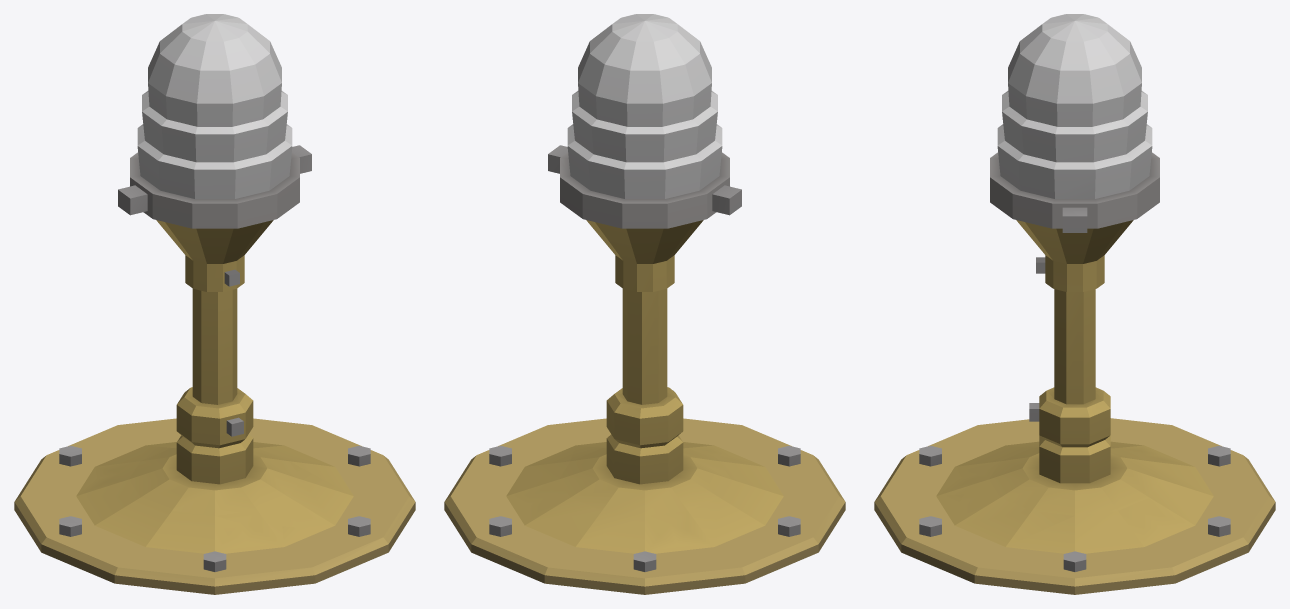
The model's file is edge.glb.
3 views of the same model, side by side, from view 1: azimuth 30°, elevation 25°; view 2: azimuth 150°, elevation 25°; view 3: azimuth 270°, elevation 25° (orthographic).
Visible parts, largest first — view 1: edge; view 2: edge; view 3: edge.
Part boxes in pixels (x1=…): edge: x1=14, y1=14, x2=415, y2=594; edge: x1=444, y1=14, x2=845, y2=594; edge: x1=874, y1=14, x2=1275, y2=594.
Bounding box in the file's own units: 0.364 × 0.49 × 0.364.
